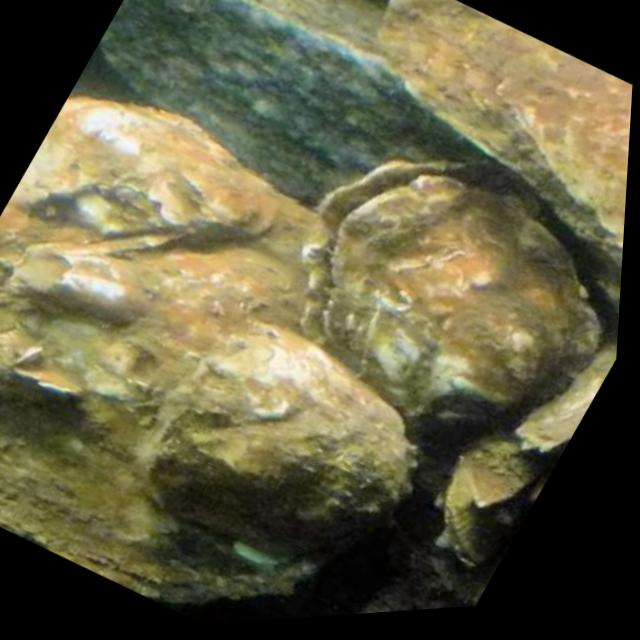Oyster-Closed: (441, 470, 507, 567)
Oyster-Indeterminate: (0, 198, 405, 606), (381, 0, 632, 265), (140, 321, 409, 559), (0, 93, 284, 259), (458, 438, 546, 506)
Oyster-Open: (300, 161, 596, 494)
